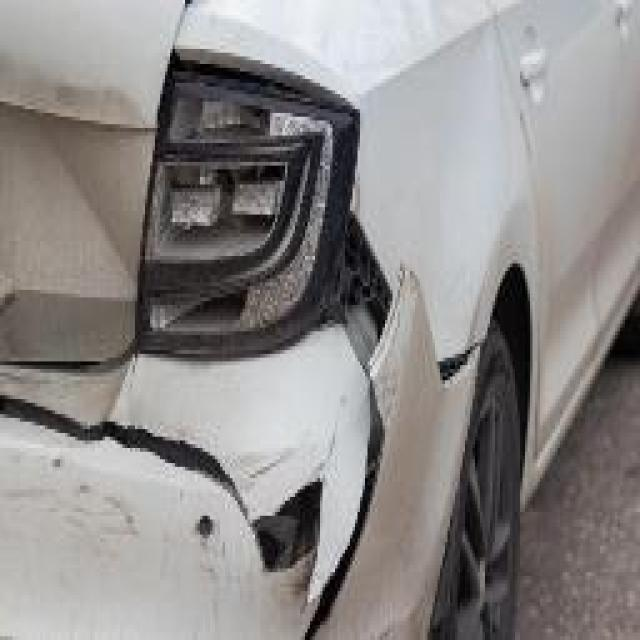Bumper: (0, 268, 485, 640)
Dickey: (0, 0, 191, 369)
Light: (133, 50, 372, 365)
